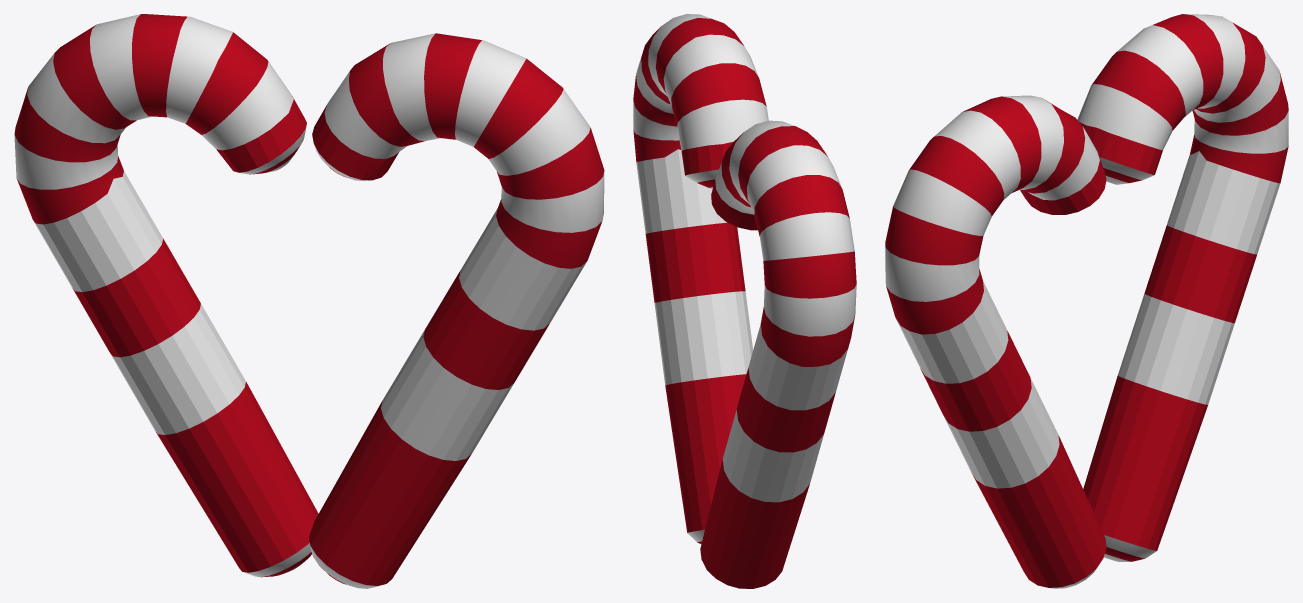
The model's file is candyCanes.fbx.
The picture shows the model from 3 angles, left to right: view 1: azimuth 30°, elevation 25°; view 2: azimuth 150°, elevation 25°; view 3: azimuth 270°, elevation 25°; orthographic projection. The views are drawn at different scales.
Parts seen in each view (by area): view 1: leftCandyCane, rightCandyCane; view 2: leftCandyCane, rightCandyCane; view 3: leftCandyCane, rightCandyCane.
Boxes of the visible parts, x1=… form: leftCandyCane: x1=14, y1=14, x2=318, y2=577; rightCandyCane: x1=309, y1=33, x2=604, y2=588; leftCandyCane: x1=700, y1=120, x2=856, y2=588; rightCandyCane: x1=633, y1=14, x2=768, y2=544; leftCandyCane: x1=1077, y1=14, x2=1288, y2=561; rightCandyCane: x1=885, y1=95, x2=1106, y2=588.
Size of the model in its own units: 1 by 1.3 by 0.9413.
